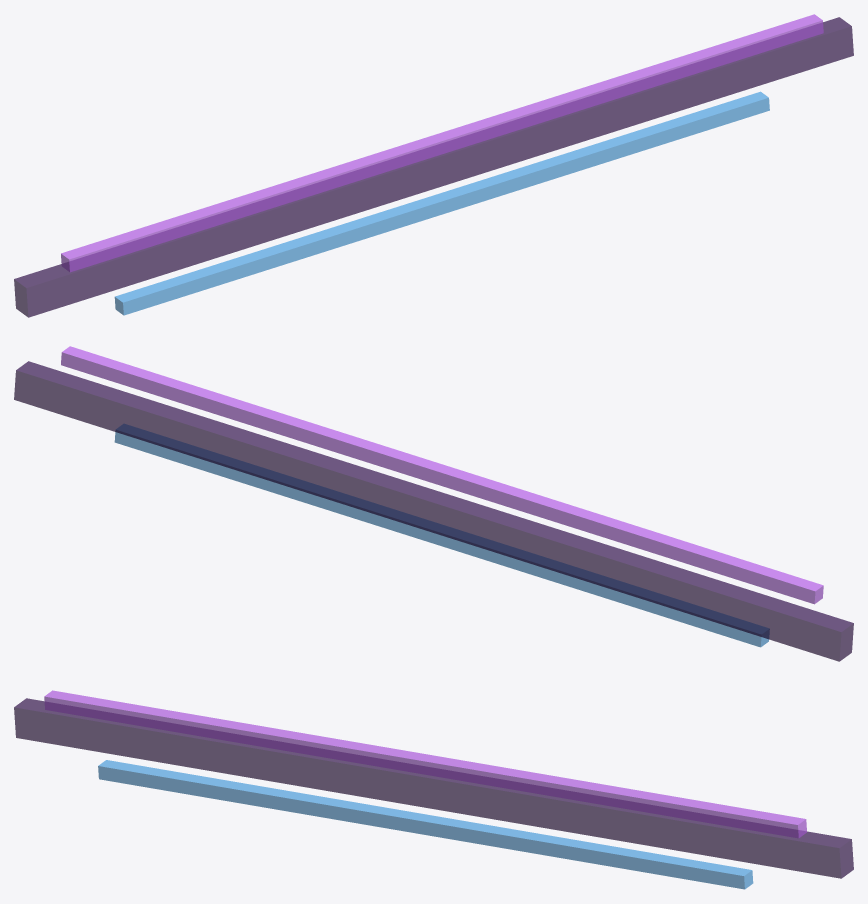
File: vfx_reality_tear_line.glb
3 renders of one model, top to bottom at view 1: azimuth 30°, elevation 25°; view 2: azimuth 150°, elevation 25°; view 3: azimuth 330°, elevation 25°, orthographic.
Visible parts, largest first — view 1: tear, edge_a, edge_b; view 2: tear, edge_a, edge_b; view 3: tear, edge_a, edge_b.
Boxes of the visible parts, x1=… form: tear: x1=14, y1=17, x2=853, y2=317; edge_a: x1=61, y1=14, x2=823, y2=272; edge_b: x1=114, y1=91, x2=769, y2=315; tear: x1=14, y1=361, x2=853, y2=661; edge_a: x1=61, y1=346, x2=823, y2=604; edge_b: x1=114, y1=424, x2=769, y2=647; tear: x1=14, y1=698, x2=853, y2=878; edge_a: x1=44, y1=690, x2=806, y2=838; edge_b: x1=98, y1=760, x2=753, y2=889.
Size of the model in its own units: 2.3 by 0.3313 by 0.09.
